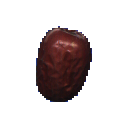gd: (26, 16, 106, 112)
